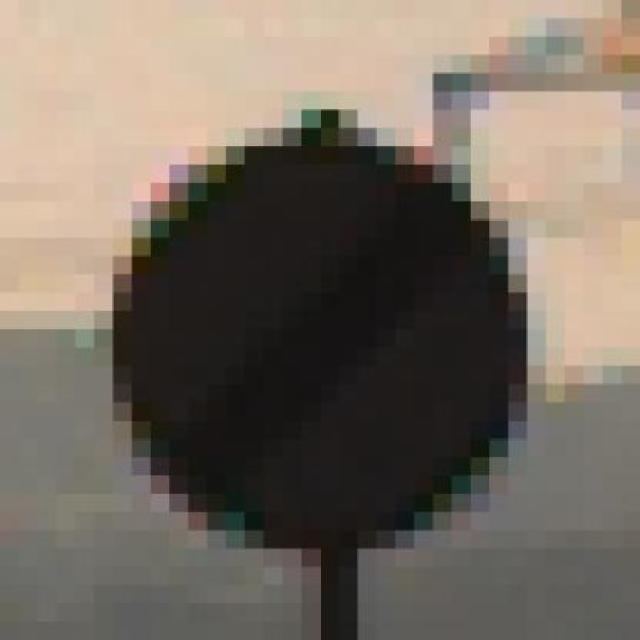End of all speed and passing limits: (76, 91, 546, 548)
